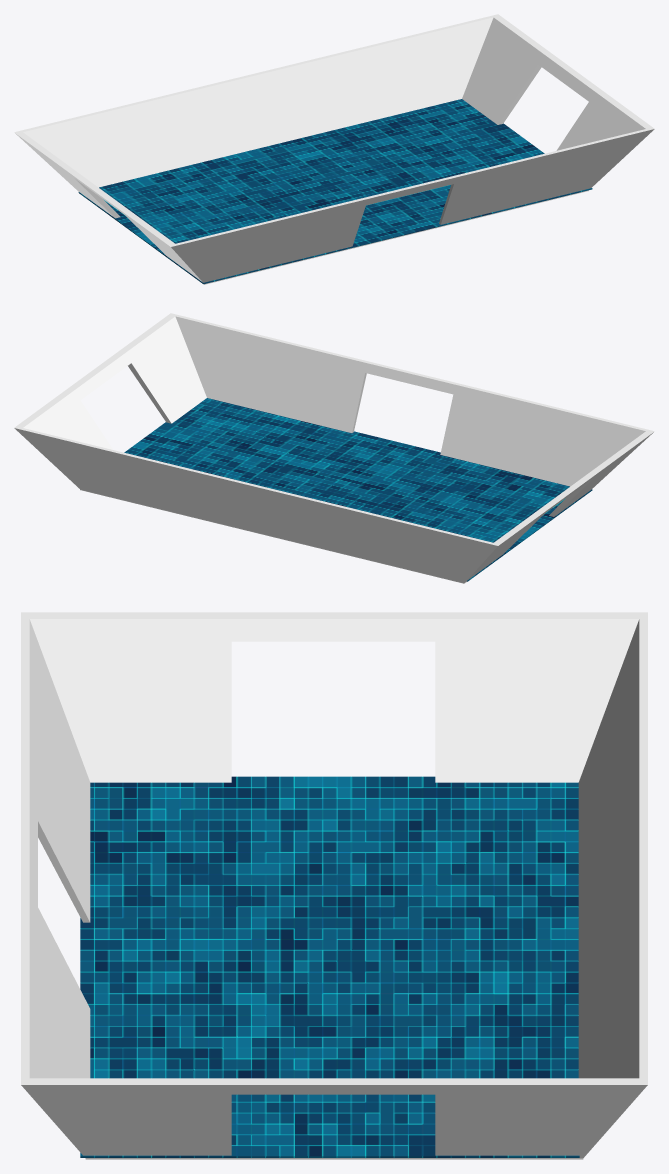
Rendered from topleftright.fbx.
3 views of the same model, one above another, from view 1: azimuth 30°, elevation 25°; view 2: azimuth 150°, elevation 25°; view 3: azimuth 270°, elevation 25° (orthographic). The views are drawn at different scales.
Parts seen in each view (by area): view 1: Room3, Piso3; view 2: Room3, Piso3; view 3: Piso3, Room3.
Boxes of the visible parts, x1=… form: Room3: x1=14, y1=14, x2=654, y2=284; Piso3: x1=78, y1=99, x2=592, y2=284; Room3: x1=14, y1=313, x2=654, y2=583; Piso3: x1=124, y1=398, x2=592, y2=581; Piso3: x1=80, y1=776, x2=579, y2=1157; Room3: x1=21, y1=612, x2=647, y2=1159.
Bounding box in the file's own units: 4100 × 500 × 2300.
